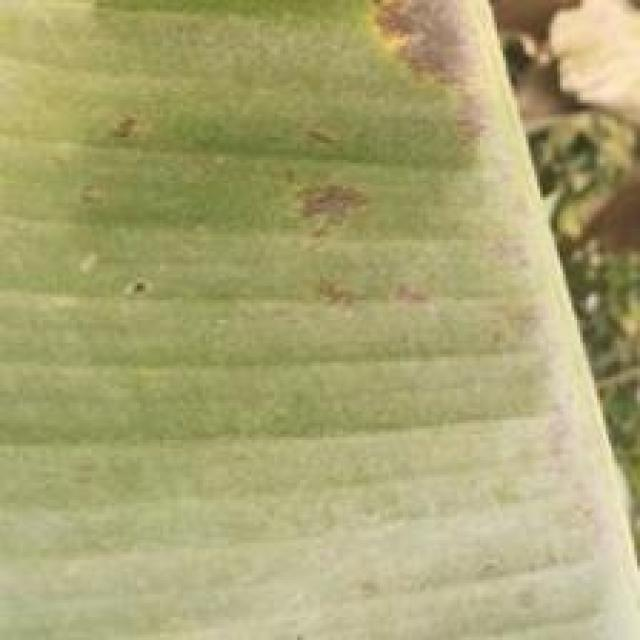Downey_mildrew: (89, 101, 579, 373), (280, 0, 541, 179)
